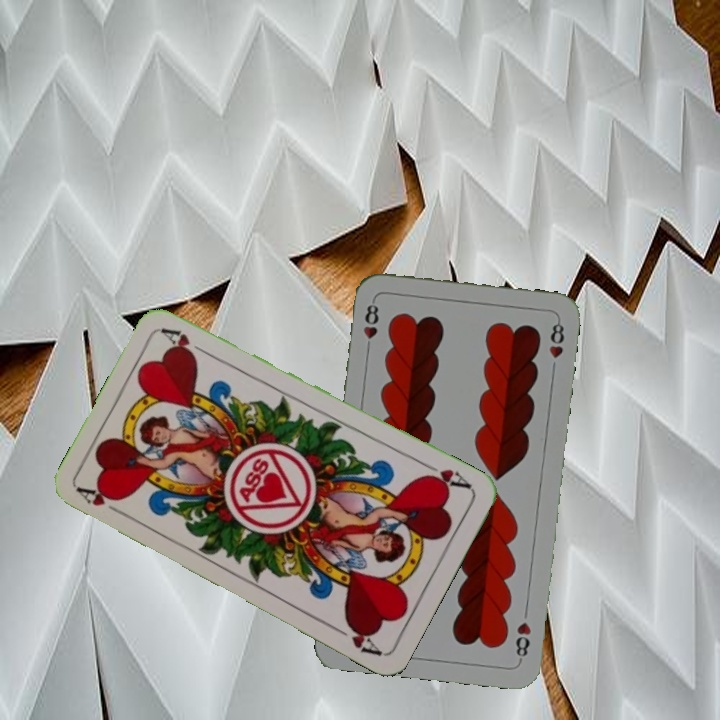H8: (359, 296, 381, 355), (512, 618, 534, 664)
HA: (74, 482, 129, 519), (418, 458, 474, 492)
